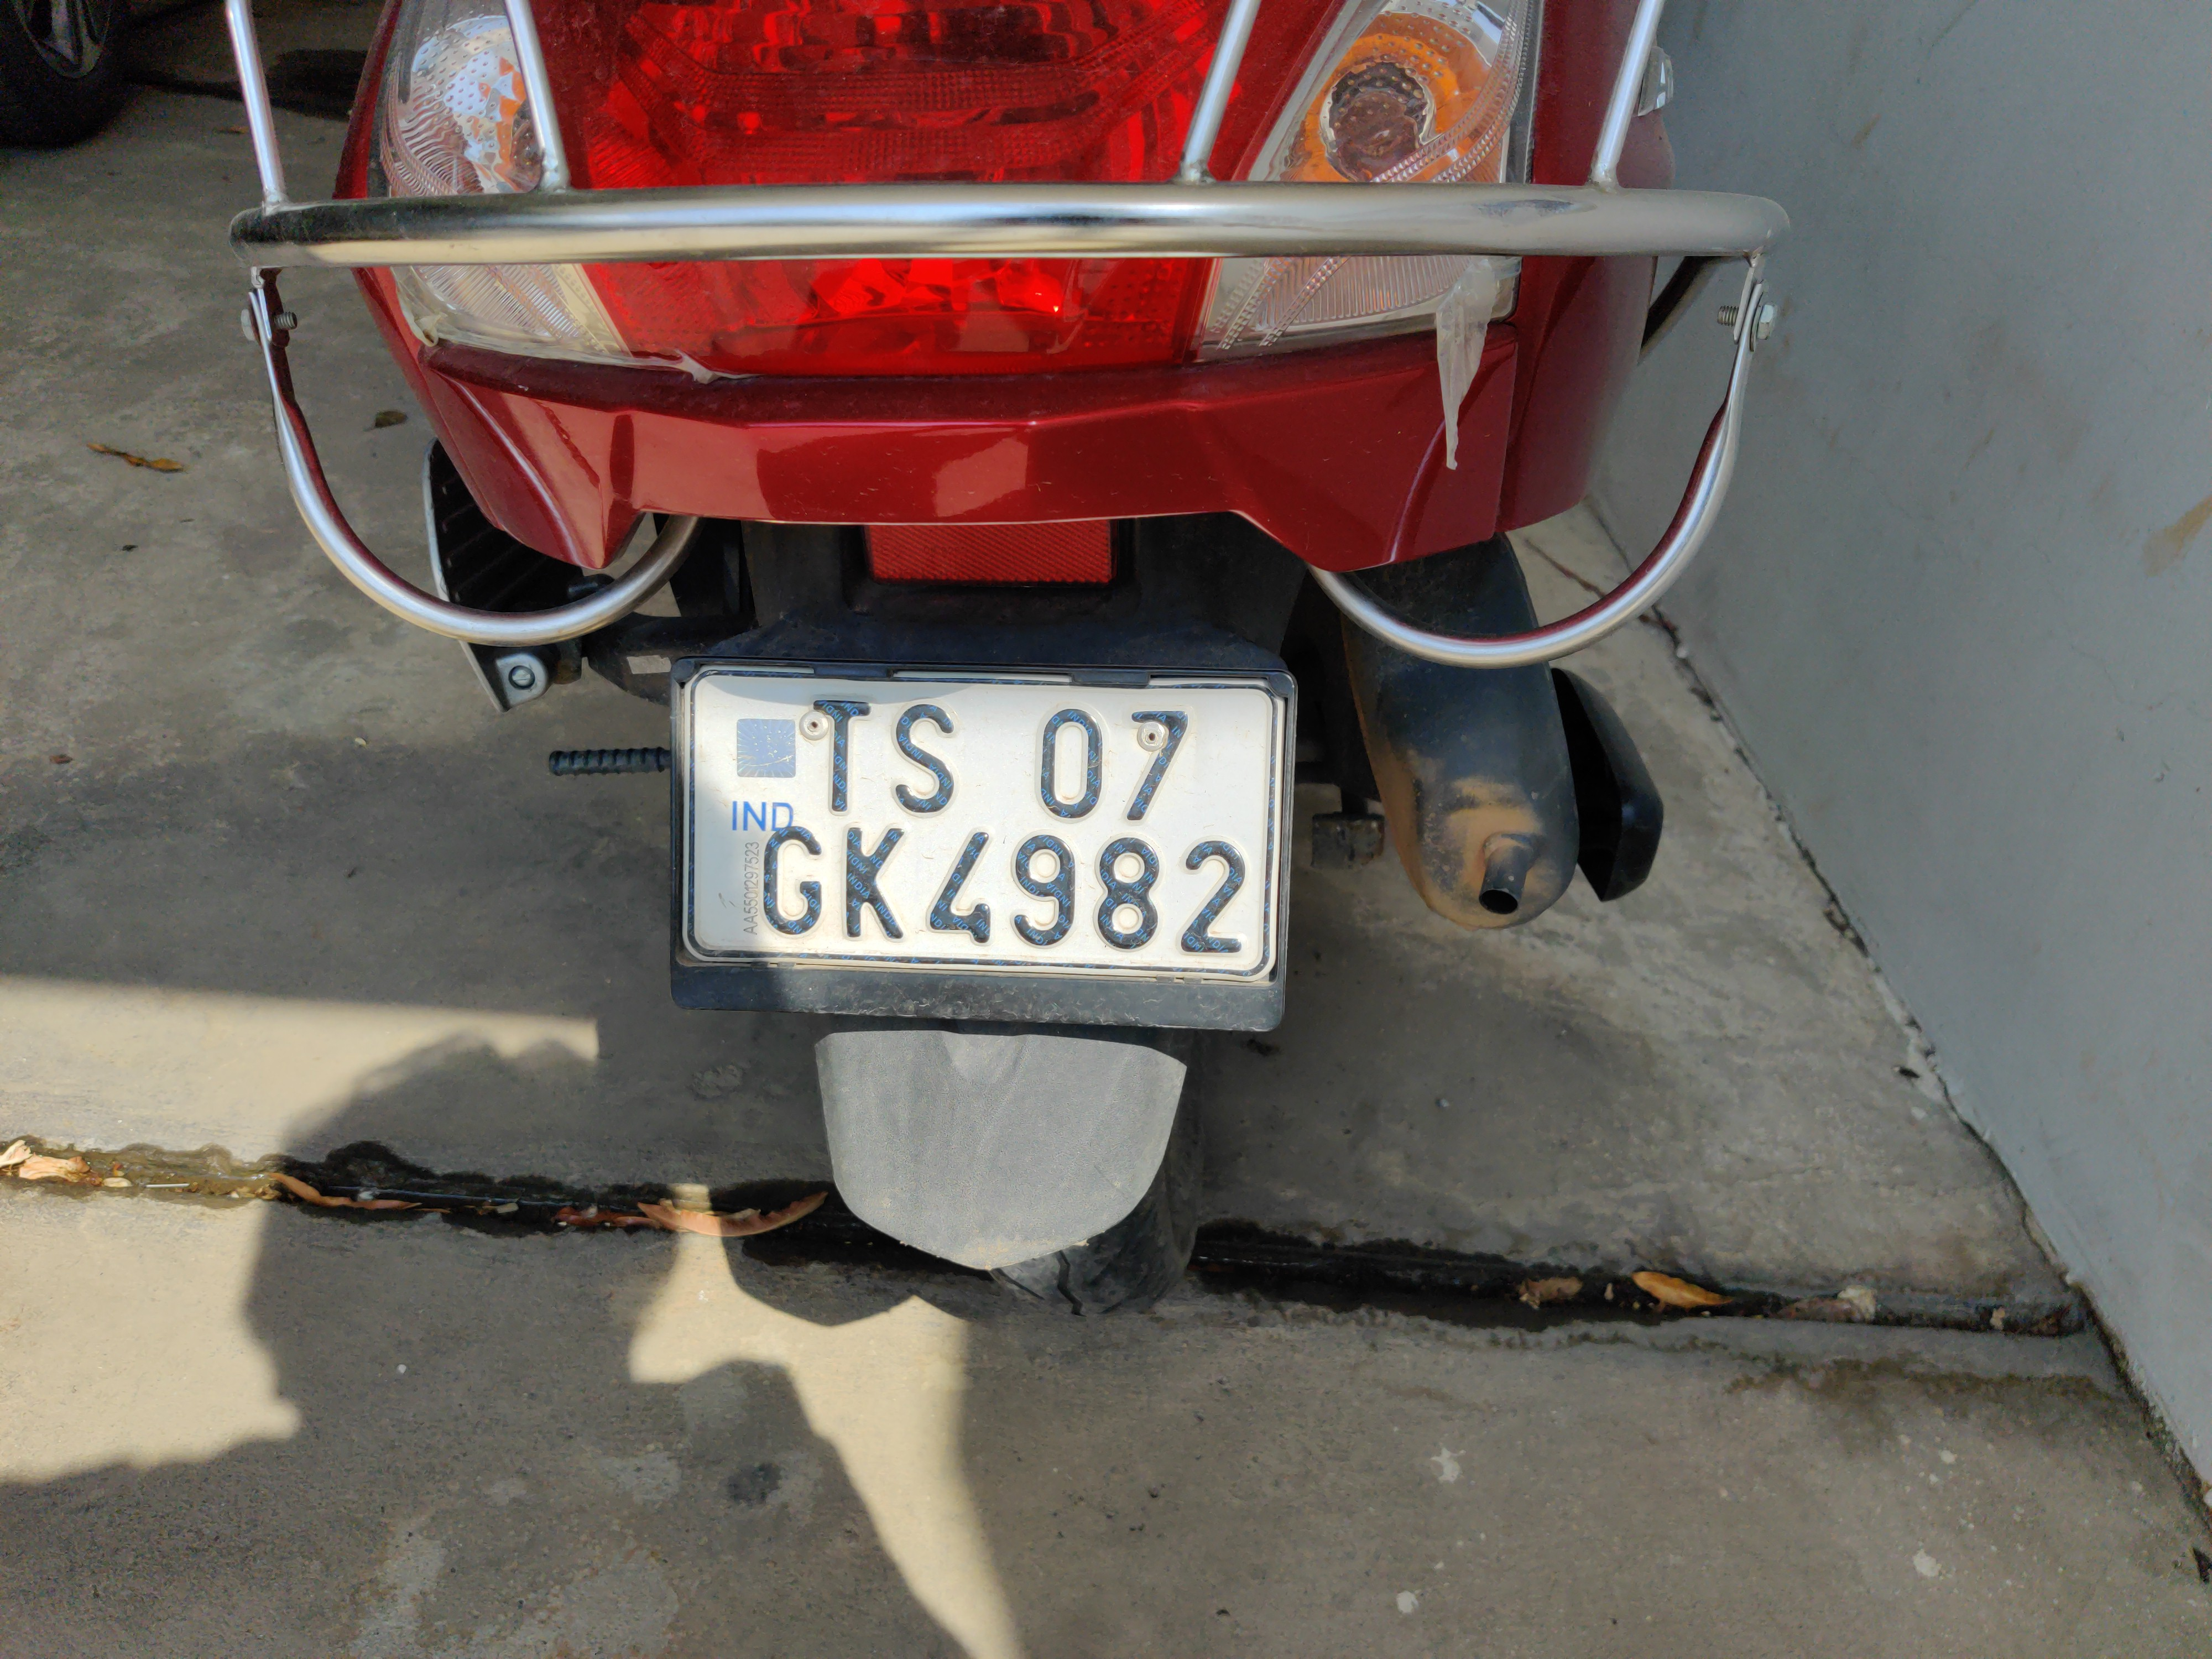plate: (650, 633, 1347, 1098)
